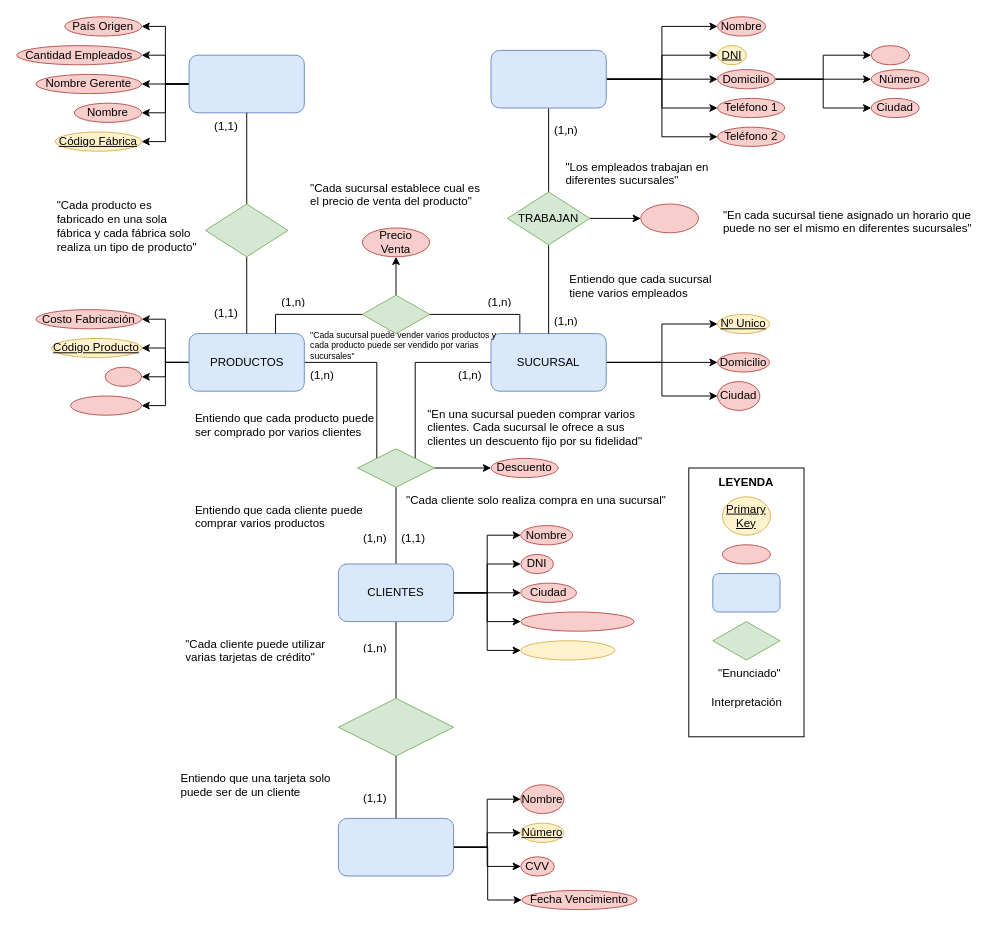
Image size: 1003x926. Some labels were removed from this diagram. Each missing label, with the centre of its shape:
"Atributo" belongs at (745,554).
"Calle" belongs at (890,55).
"Color" belongs at (123,376).
"COMPRA" belongs at (395,467).
"Código Cliente" belongs at (567,650).
"Descripción" belongs at (106,405).
"EMPLEADOS" belongs at (548,78).
"ENTIDAD" belongs at (746,592).
"FABRICAN" belongs at (246,230).
"Fecha Nacimiento" belongs at (577,621).
"FÁBRICAS" belongs at (246,83).
"Horario" belongs at (669,218).
"RELACIÓN" belongs at (746,640).
"TARJETAS CREDITO" belongs at (395,846).
"TIENEN" belongs at (395,726).
"VENDE" belongs at (395,314).
